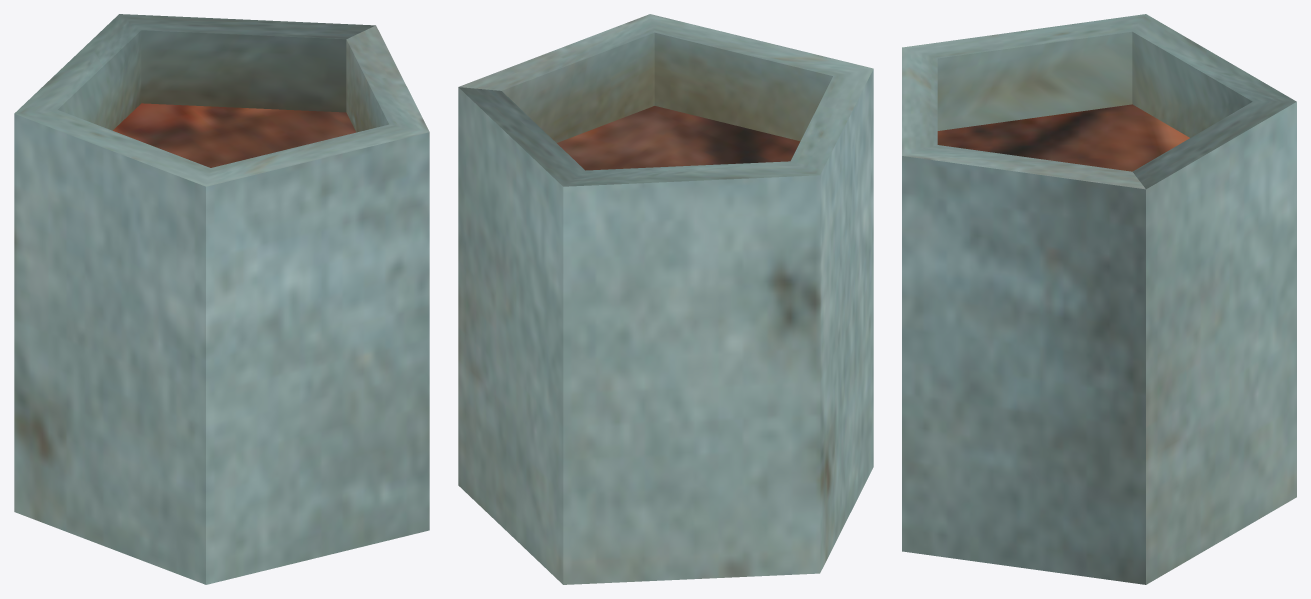
Rendered from Barrel.glb.
The picture shows the model from 3 angles, left to right: view 1: azimuth 30°, elevation 25°; view 2: azimuth 150°, elevation 25°; view 3: azimuth 270°, elevation 25°; orthographic projection.
Visible parts, largest first — view 1: Cylinder; view 2: Cylinder; view 3: Cylinder.
Part boxes in pixels (<box>): Cylinder: <box>14,14,429,584</box>; Cylinder: <box>458,14,873,584</box>; Cylinder: <box>902,14,1296,584</box>.
Size of the model in its own units: 1.9 by 2 by 1.81.
Materials: 2 (2 with a texture image).
